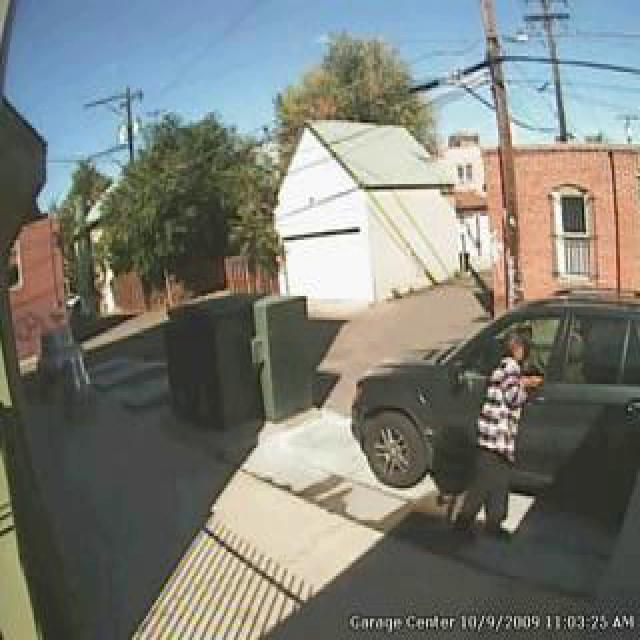stealing: (370, 160, 602, 576)
